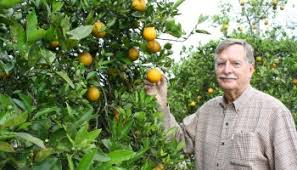orange: (89, 20, 108, 38), (84, 86, 102, 101), (77, 51, 93, 67), (146, 67, 162, 82), (141, 25, 156, 40)
